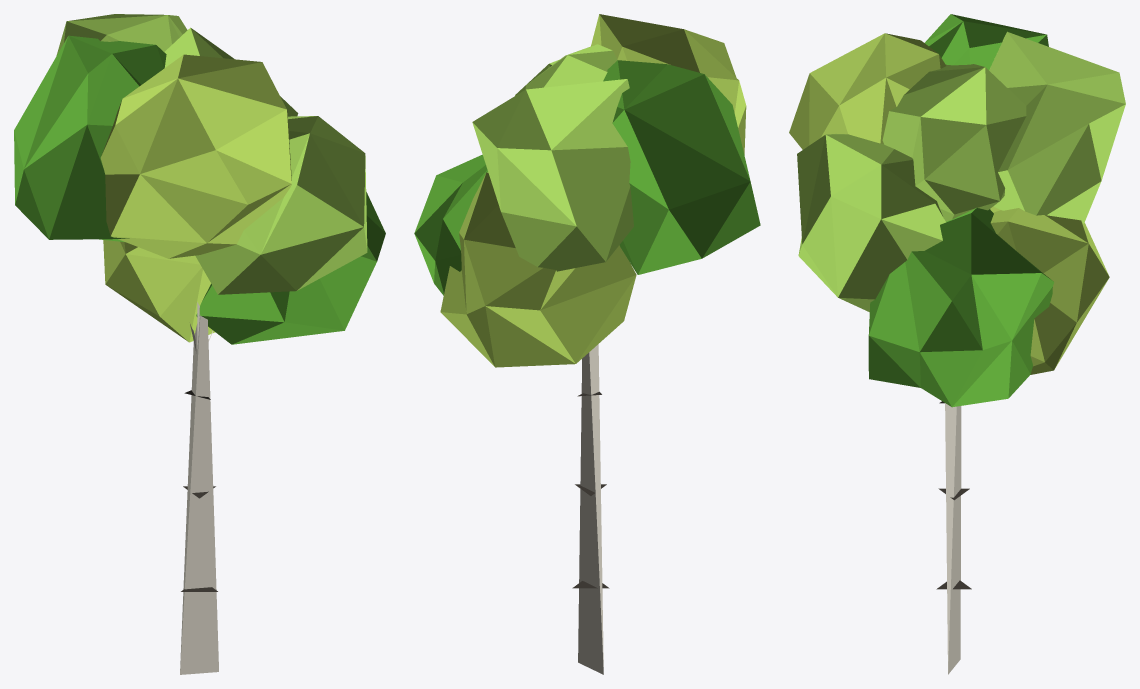
The model's file is tree_birch_3_lod1.glb.
3 views of the same model, side by side, from view 1: azimuth 30°, elevation 25°; view 2: azimuth 150°, elevation 25°; view 3: azimuth 270°, elevation 25° (orthographic). The views are drawn at different scales.
Parts seen in each view (by area): view 1: tree_birch_3_lod1; view 2: tree_birch_3_lod1; view 3: tree_birch_3_lod1.
Part boxes in pixels (bbox=[...]): tree_birch_3_lod1: bbox=[14, 14, 385, 674]; tree_birch_3_lod1: bbox=[414, 14, 760, 674]; tree_birch_3_lod1: bbox=[789, 14, 1125, 674].
Size of the model in its own units: 3.88 by 7 by 3.52.
